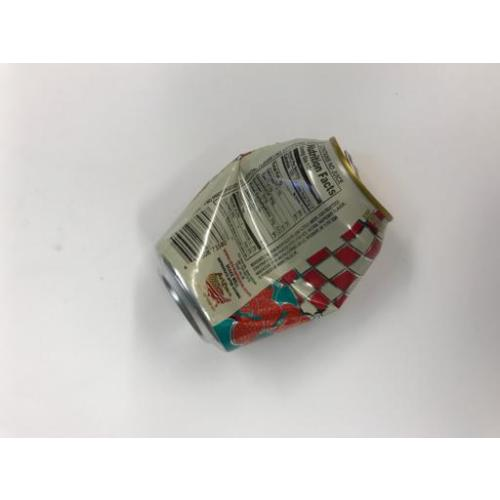metal: (162, 134, 387, 356)
